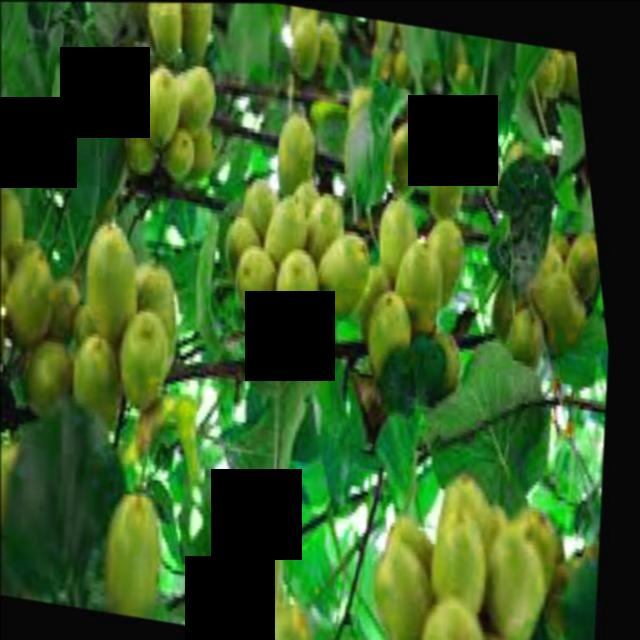kiwi: (205, 498, 298, 636), (422, 476, 505, 616), (77, 219, 158, 355), (92, 495, 174, 620), (468, 529, 555, 640), (422, 510, 499, 631), (492, 510, 569, 623), (359, 540, 442, 640), (111, 308, 184, 417), (311, 230, 388, 332), (64, 334, 135, 443), (389, 242, 458, 347), (1, 252, 69, 357), (530, 269, 602, 363), (418, 220, 480, 317), (270, 250, 334, 343), (20, 342, 87, 428), (262, 191, 325, 281), (409, 332, 474, 418), (365, 291, 426, 380), (377, 202, 434, 291), (277, 117, 334, 206), (172, 66, 235, 145), (303, 193, 361, 278), (144, 70, 199, 158), (224, 219, 281, 300), (241, 184, 296, 265), (388, 124, 441, 208), (1, 187, 41, 295), (234, 247, 291, 321), (113, 49, 165, 129), (564, 231, 611, 309), (506, 310, 554, 383), (123, 118, 175, 184), (431, 157, 479, 226), (167, 126, 211, 187), (415, 605, 489, 640)
